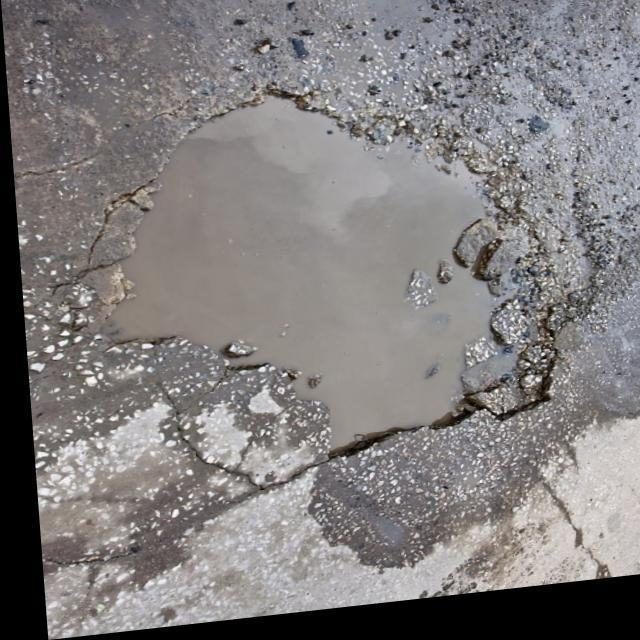Pothole: (96, 98, 591, 465)
